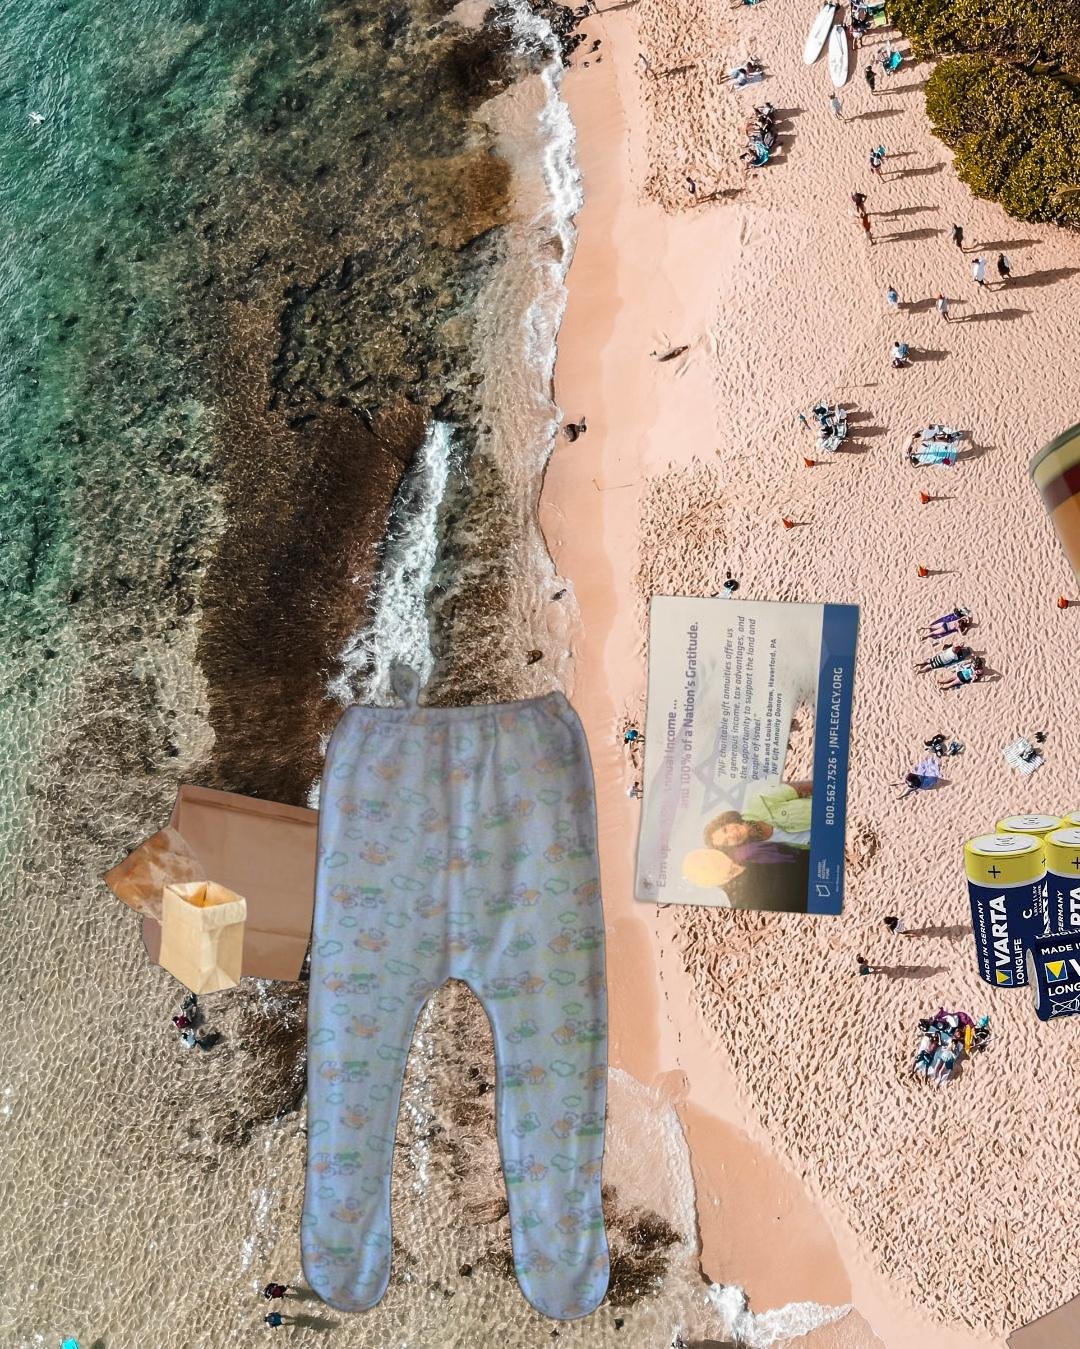battery: (962, 808, 1080, 1024)
biological: (208, 564, 483, 747)
clothes: (300, 659, 614, 1327)
metal-cans: (1024, 376, 1080, 652)
paper: (628, 591, 865, 919)
paper-bag: (96, 781, 330, 999), (1003, 1271, 1080, 1349)
